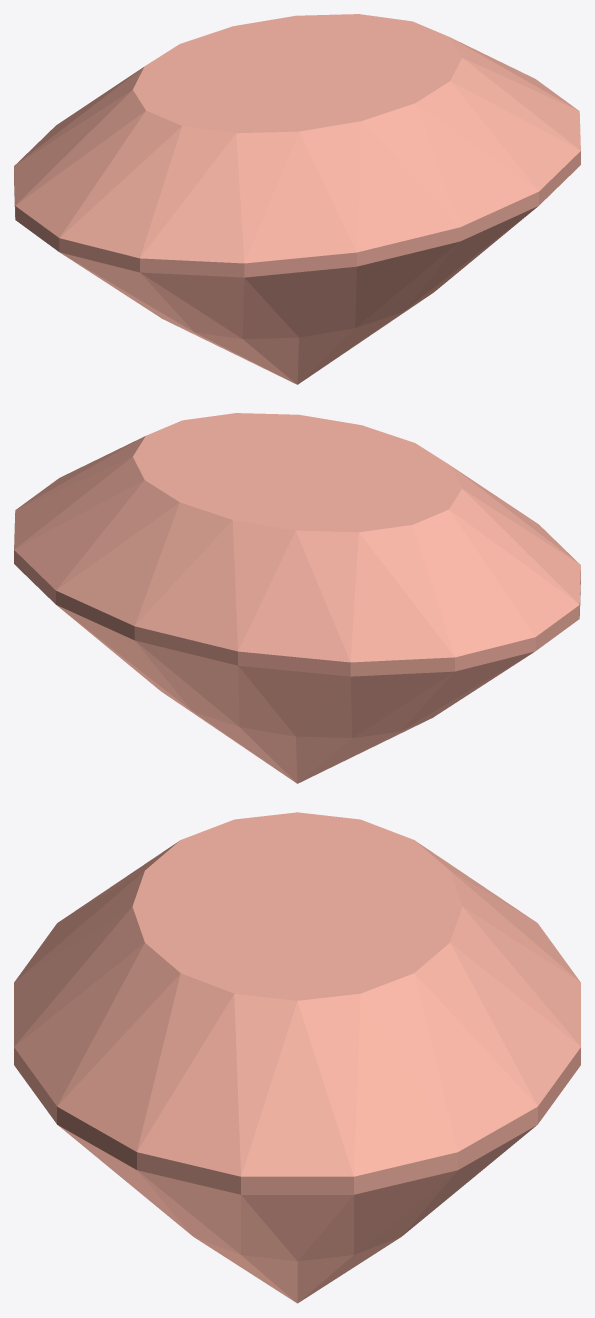
Rendered from fireopal.glb.
The picture shows the model from 3 angles, top to bottom: view 1: azimuth 30°, elevation 25°; view 2: azimuth 150°, elevation 25°; view 3: azimuth 270°, elevation 25°; orthographic projection. The views are drawn at different scales.
Visible parts, largest first — view 1: fireopal; view 2: fireopal; view 3: fireopal.
Boxes of the visible parts, left/top/right/bottom form: fireopal: left=14, top=14, right=580, bottom=384; fireopal: left=14, top=413, right=580, bottom=783; fireopal: left=14, top=812, right=580, bottom=1303.
Size of the model in its own units: 0.25 by 0.1429 by 0.185.
